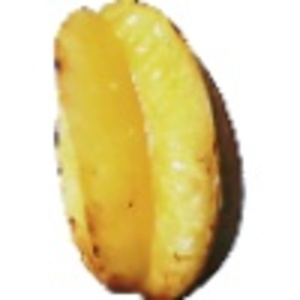carambola: (53, 1, 243, 300)
